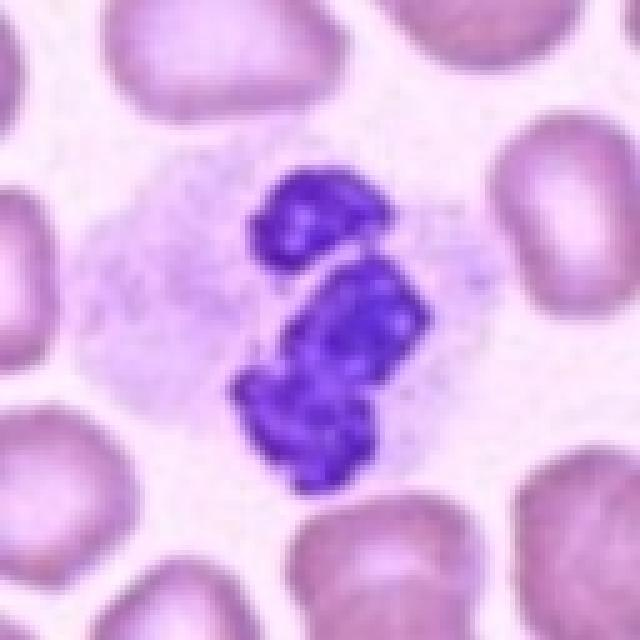neutro: (110, 70, 590, 532)
